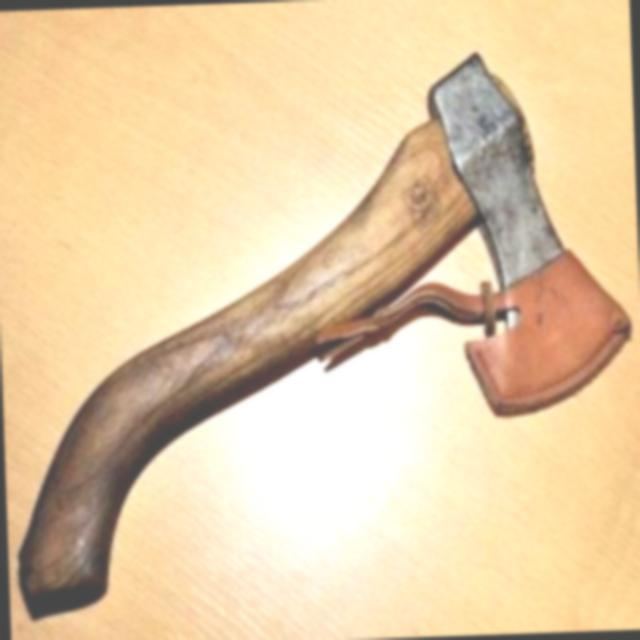ax: (0, 33, 640, 631)
